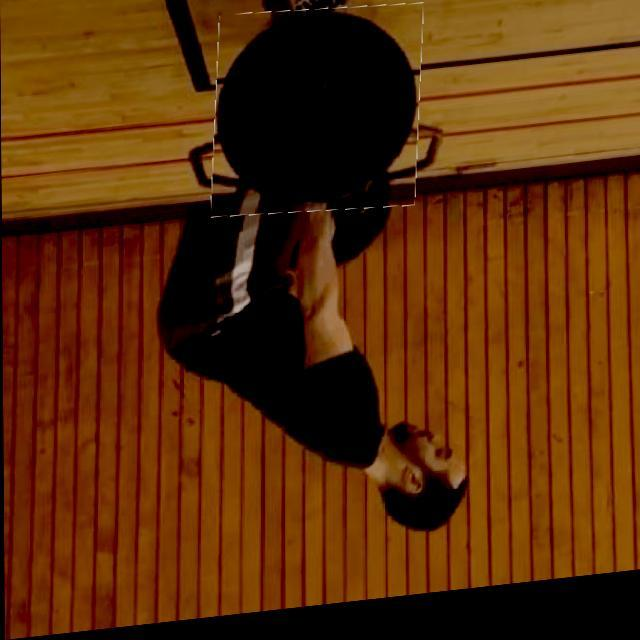barbell: (213, 7, 423, 231)
